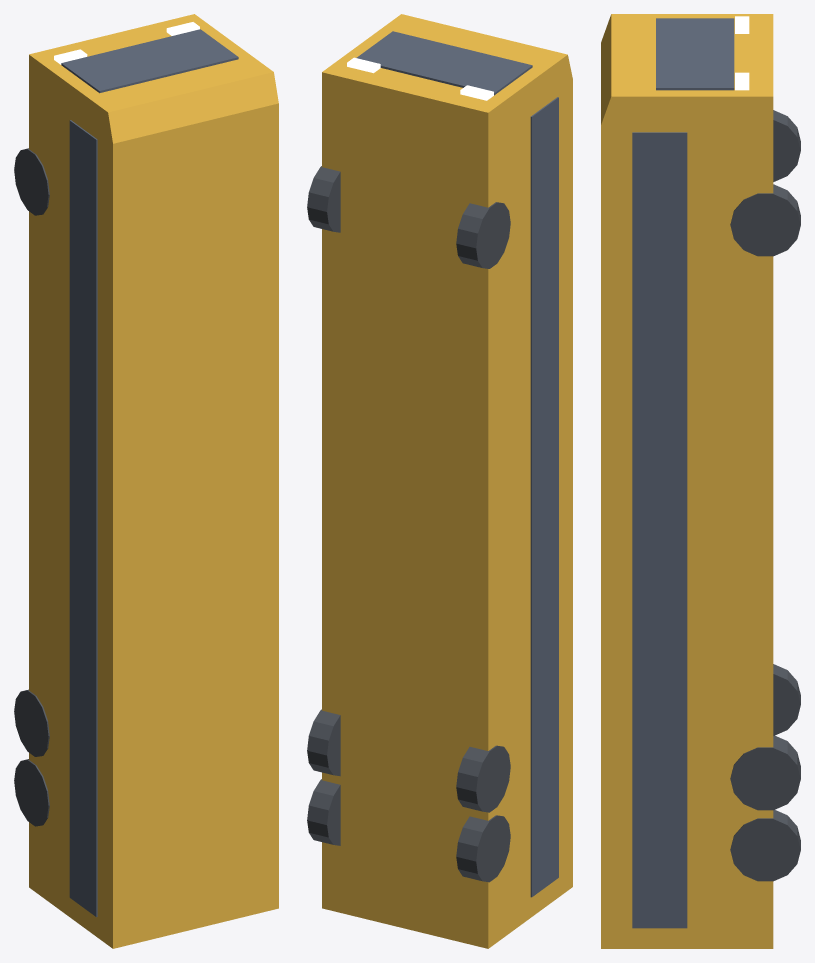
File: bus.glb
3 views of the same model, side by side, from view 1: azimuth 30°, elevation 25°; view 2: azimuth 150°, elevation 25°; view 3: azimuth 270°, elevation 25° (orthographic). The views are drawn at different scales.
Parts seen in each view (by area): view 1: geometry_0, geometry_1, geometry_2, geometry_5, geometry_7, geometry_3; view 2: geometry_0, geometry_1, geometry_2, geometry_7, geometry_3, geometry_5, geometry_8, geometry_4, geometry_6; view 3: geometry_0, geometry_1, geometry_2, geometry_4, geometry_6, geometry_8, geometry_3, geometry_5.
Boxes of the visible parts, x1,y1,x2,y2 form: geometry_0: [29, 14, 278, 948]; geometry_1: [69, 120, 97, 917]; geometry_2: [61, 29, 238, 93]; geometry_5: [14, 689, 49, 756]; geometry_7: [14, 759, 49, 826]; geometry_3: [14, 148, 49, 215]; geometry_0: [322, 14, 572, 948]; geometry_1: [530, 97, 558, 897]; geometry_2: [356, 31, 532, 95]; geometry_7: [456, 815, 510, 882]; geometry_3: [456, 202, 510, 268]; geometry_5: [456, 745, 510, 812]; geometry_8: [307, 779, 340, 845]; geometry_4: [307, 166, 340, 232]; geometry_6: [307, 709, 340, 776]; geometry_0: [601, 14, 773, 948]; geometry_1: [632, 132, 687, 928]; geometry_2: [656, 18, 734, 90]; geometry_4: [730, 184, 800, 256]; geometry_6: [730, 738, 800, 810]; geometry_8: [730, 810, 800, 881]; geometry_3: [773, 110, 800, 181]; geometry_5: [773, 664, 800, 735].
Size of the model in its own units: 2.54 by 12.12 by 2.55.
